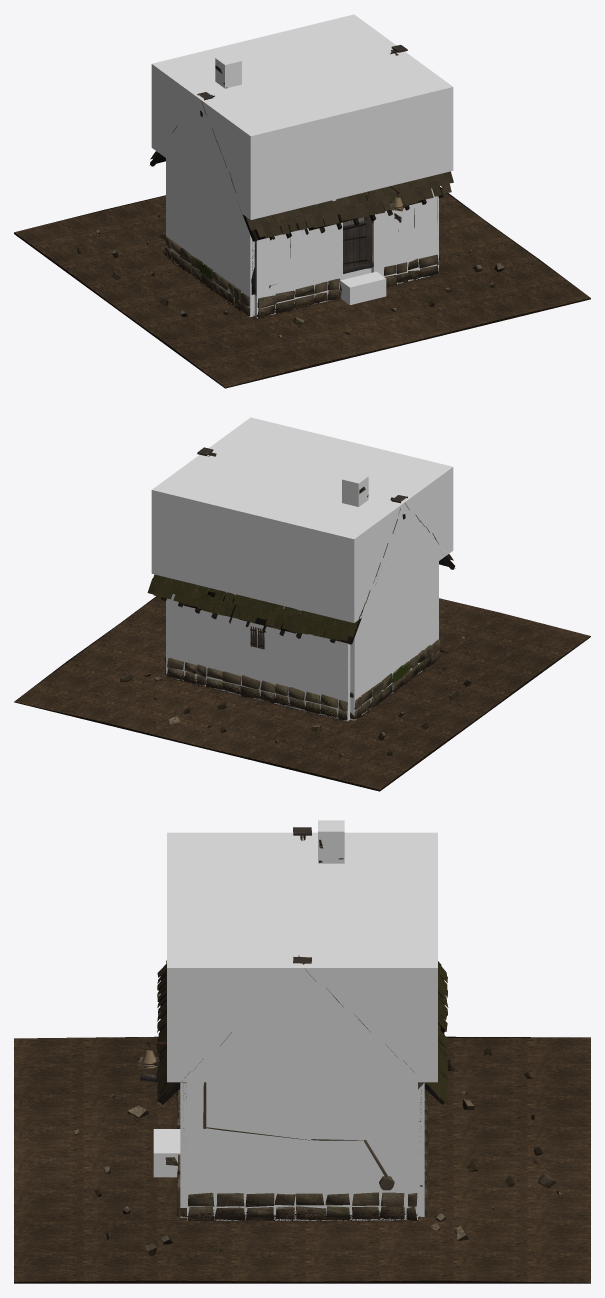
The model's file is bld_lodge_orrin_shared_tex.glb.
3 views of the same model, one above another, from view 1: azimuth 30°, elevation 25°; view 2: azimuth 150°, elevation 25°; view 3: azimuth 270°, elevation 25° (orthographic). The views are drawn at different scales.
Visible parts, largest first — view 1: col_roof, ground_mud, col_col_wall_W_0, col_col_wall_S_0, roof_main_shingles, plinth, col_col_wall_S_2, decals_orrin, door_main_leaf, col_steps, col_chimney, lite_merge_06 (+1 smaller); view 2: col_roof, ground_mud, col_col_wall_N_0, col_col_wall_W_0, plinth, roof_main_shingles, decals_orrin, lite_merge_06, col_chimney; view 3: ground_mud, col_roof, col_col_wall_E_0, plinth, roof_main_shingles, lite_merge_06, decals_orrin, col_steps, col_chimney, col_col_wall_N_0, col_col_wall_S_2, bell_rope.
Boxes of the visible parts, x1,y1,x2,y2 form: col_roof: (151, 14, 453, 219); ground_mud: (14, 187, 590, 388); col_col_wall_W_0: (166, 158, 254, 317); col_col_wall_S_0: (254, 199, 342, 318); roof_main_shingles: (150, 49, 453, 237); plinth: (164, 236, 441, 318); col_col_wall_S_2: (371, 188, 437, 284); decals_orrin: (162, 247, 447, 319); door_main_leaf: (343, 215, 372, 268); col_steps: (340, 271, 386, 304); col_chimney: (215, 54, 241, 88); lite_merge_06: (77, 213, 504, 337); col_roof: (151, 417, 453, 622); ground_mud: (14, 596, 590, 791); col_col_wall_N_0: (167, 588, 350, 721); col_col_wall_W_0: (350, 561, 438, 720); plinth: (164, 639, 440, 720); roof_main_shingles: (147, 452, 453, 640); decals_orrin: (163, 649, 447, 721); lite_merge_06: (120, 636, 471, 758); col_chimney: (342, 472, 368, 506); ground_mud: (14, 1036, 590, 1283); col_roof: (167, 832, 437, 1082); col_col_wall_E_0: (187, 1082, 417, 1220); plinth: (176, 1089, 428, 1220); roof_main_shingles: (156, 835, 448, 1105); lite_merge_06: (74, 1048, 561, 1255); decals_orrin: (183, 1209, 420, 1223); col_steps: (153, 1129, 180, 1177); col_chimney: (318, 820, 344, 863); col_col_wall_N_0: (418, 1082, 424, 1216); col_col_wall_S_2: (180, 1082, 186, 1217); bell_rope: (203, 1082, 394, 1190).
Bounding box in the file's own units: 13 × 7.34 × 13.
Materials: 14 (12 with a texture image).
